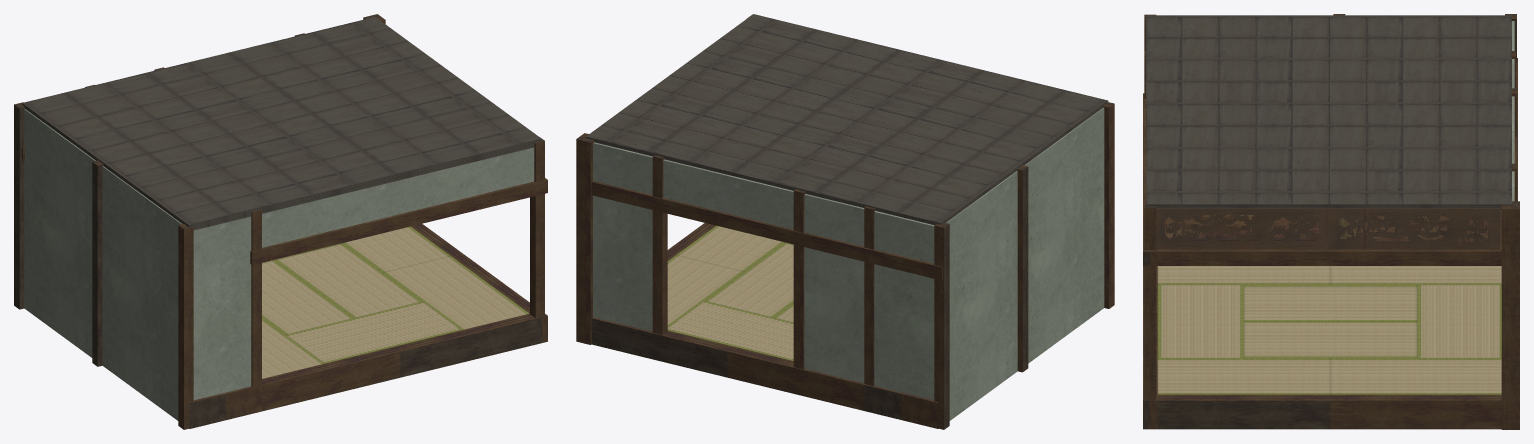
The model's file is JapaneseRoom01.fbx.
3 views of the same model, side by side, from view 1: azimuth 30°, elevation 25°; view 2: azimuth 150°, elevation 25°; view 3: azimuth 270°, elevation 25° (orthographic). The views are drawn at different scales.
Visible parts, largest first — view 1: room, ceiling; view 2: room, ceiling; view 3: room, ceiling.
Boxes of the visible parts, x1=… form: room: x1=14, y1=14, x2=547, y2=429; ceiling: x1=22, y1=17, x2=541, y2=230; room: x1=576, y1=15, x2=1114, y2=429; ceiling: x1=586, y1=14, x2=1108, y2=225; room: x1=1143, y1=14, x2=1519, y2=429; ceiling: x1=1146, y1=15, x2=1511, y2=211.
Size of the model in its own units: 567 by 301 by 462.
7 materials, 7 textured.
